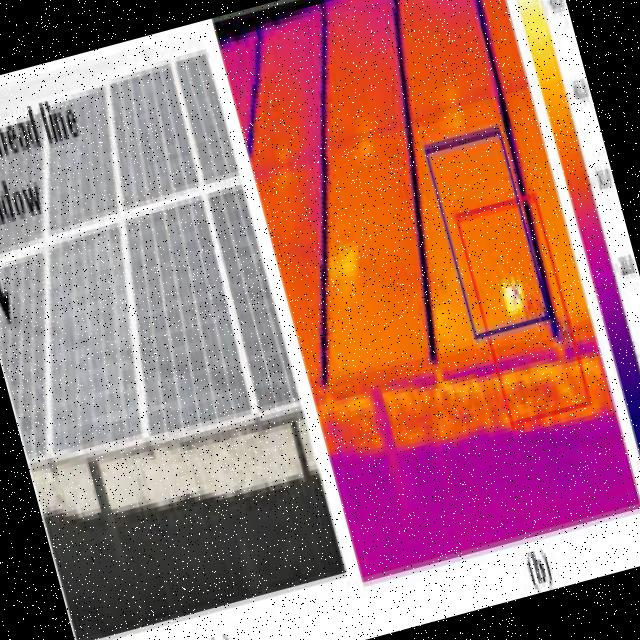Hotspot: (498, 274, 528, 316)
